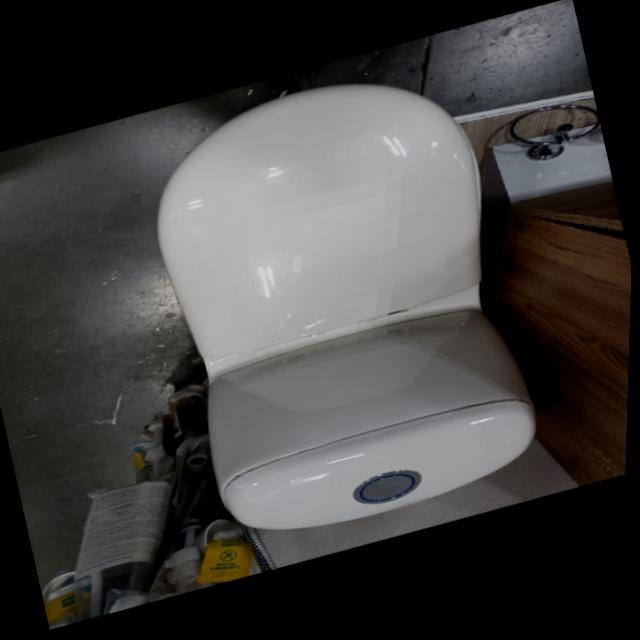toilet: (124, 49, 561, 559)
